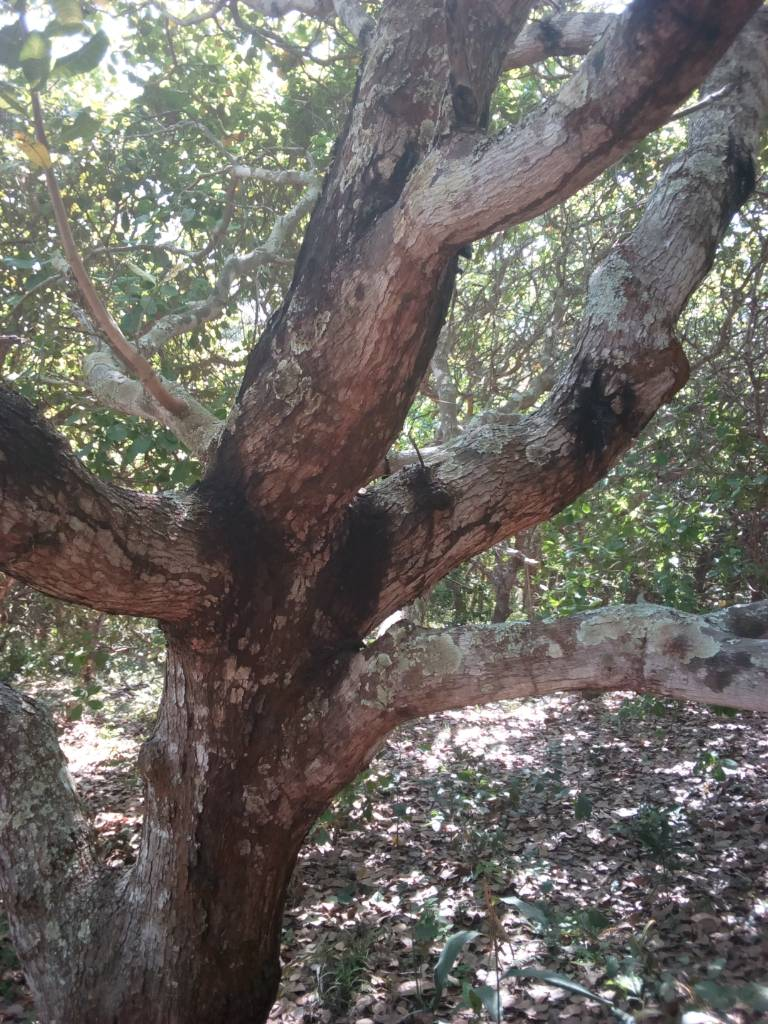Gommose: (240, 163, 383, 369), (550, 339, 643, 463), (332, 505, 394, 616), (196, 477, 261, 572)
